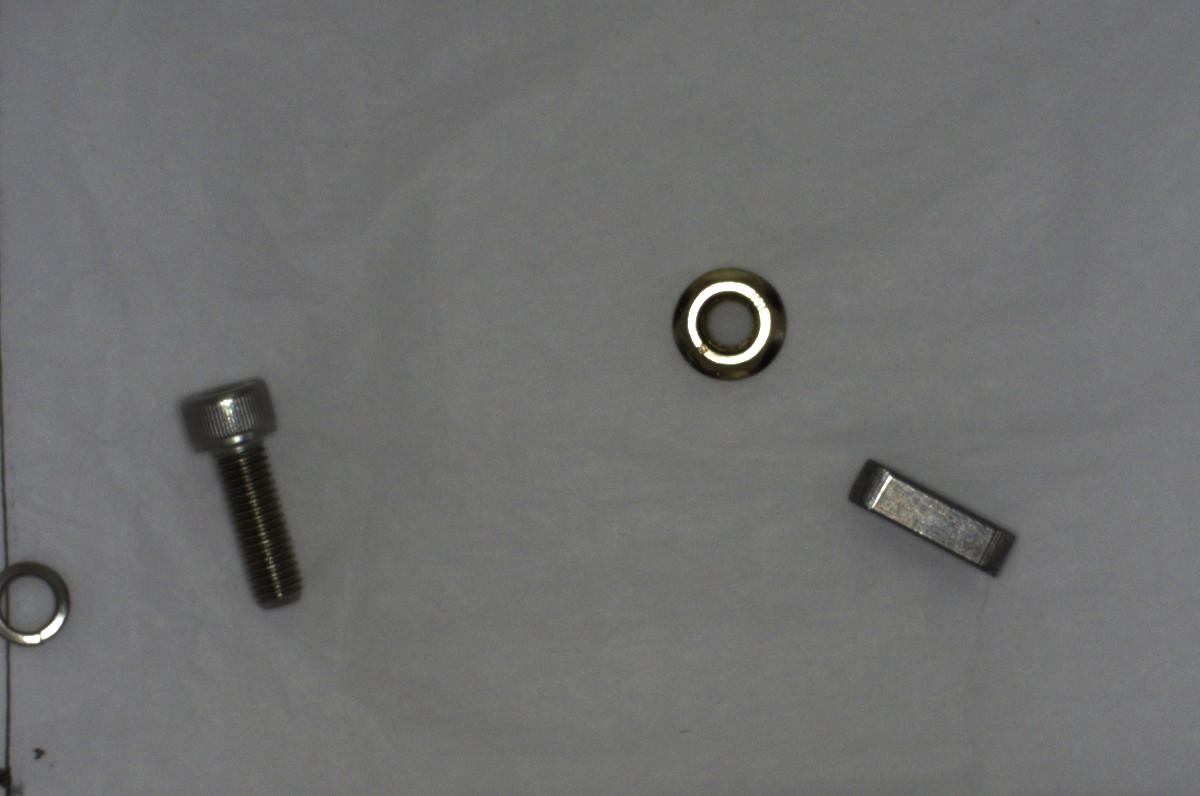Flange nut: (660, 253, 800, 387)
Hexagon screw: (172, 361, 304, 610)
Keybar: (835, 452, 1028, 576)
Spring washer: (1, 548, 79, 658)
